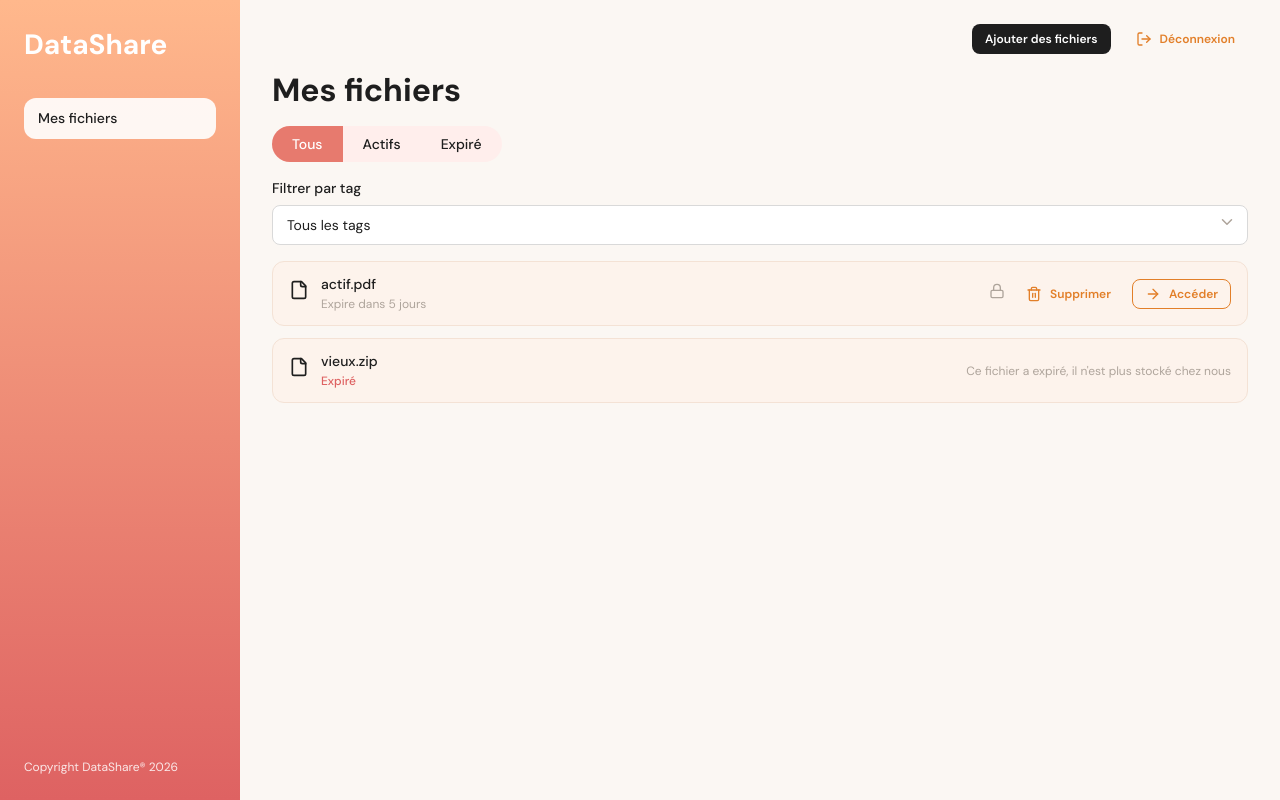
Test case: SpacePage › filtre sur les fichiers actifs
Step 1. Click the tab "Actifs" → (382, 144), box [342,126,421,162]
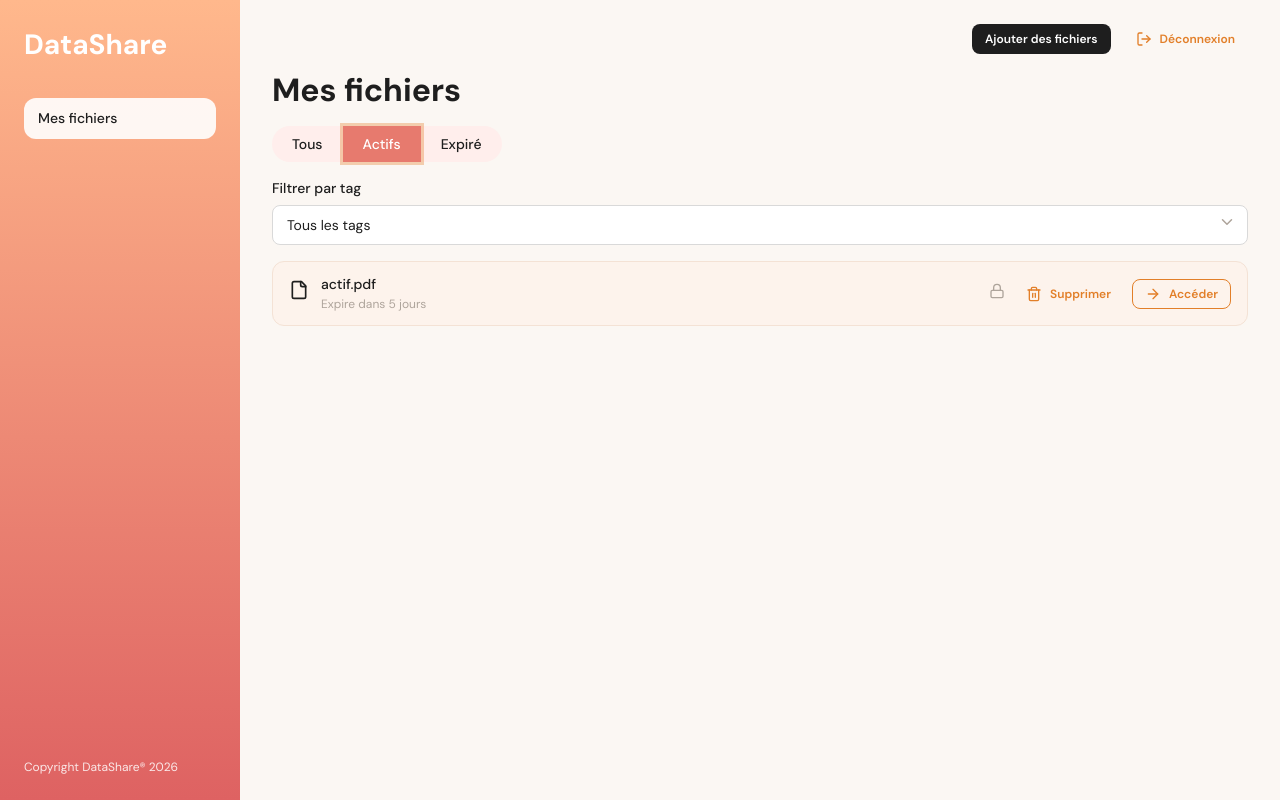
Expected: the text "actif.pdf" is shown, [321,275,376,293]
Expected: the text "vieux.zip" is gone
